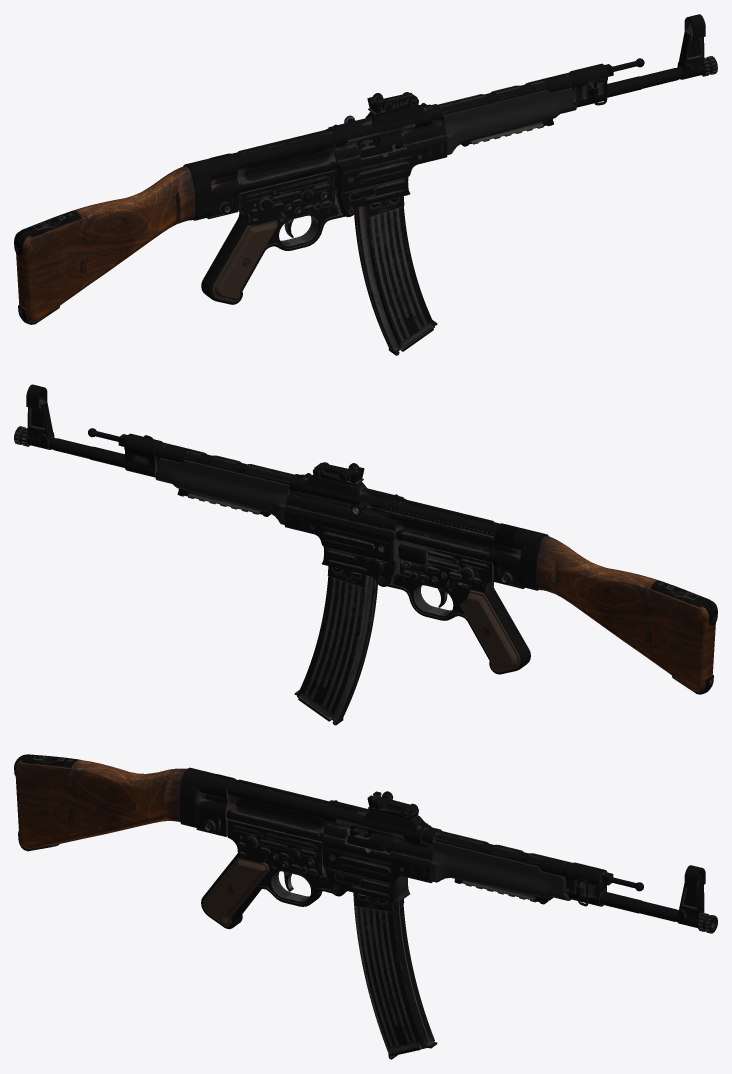
The model's file is gun.gltf.
3 renders of one model, top to bottom at view 1: azimuth 30°, elevation 25°; view 2: azimuth 150°, elevation 25°; view 3: azimuth 330°, elevation 25°, orthographic.
Visible parts, largest first — view 1: Object_2, Object_3; view 2: Object_2, Object_3, Object_4; view 3: Object_2, Object_3, Object_4.
Boxes of the visible parts, x1,y1,x2,y2 form: Object_2: [183, 14, 717, 355]; Object_3: [14, 88, 576, 324]; Object_2: [14, 384, 548, 725]; Object_3: [155, 458, 717, 694]; Object_4: [177, 488, 270, 516]; Object_2: [179, 767, 717, 1059]; Object_3: [14, 754, 570, 925]; Object_4: [454, 879, 553, 904].
Size of the model in its own units: 93.15 by 33.63 by 5.45.
Materials: 4 (3 with a texture image).
